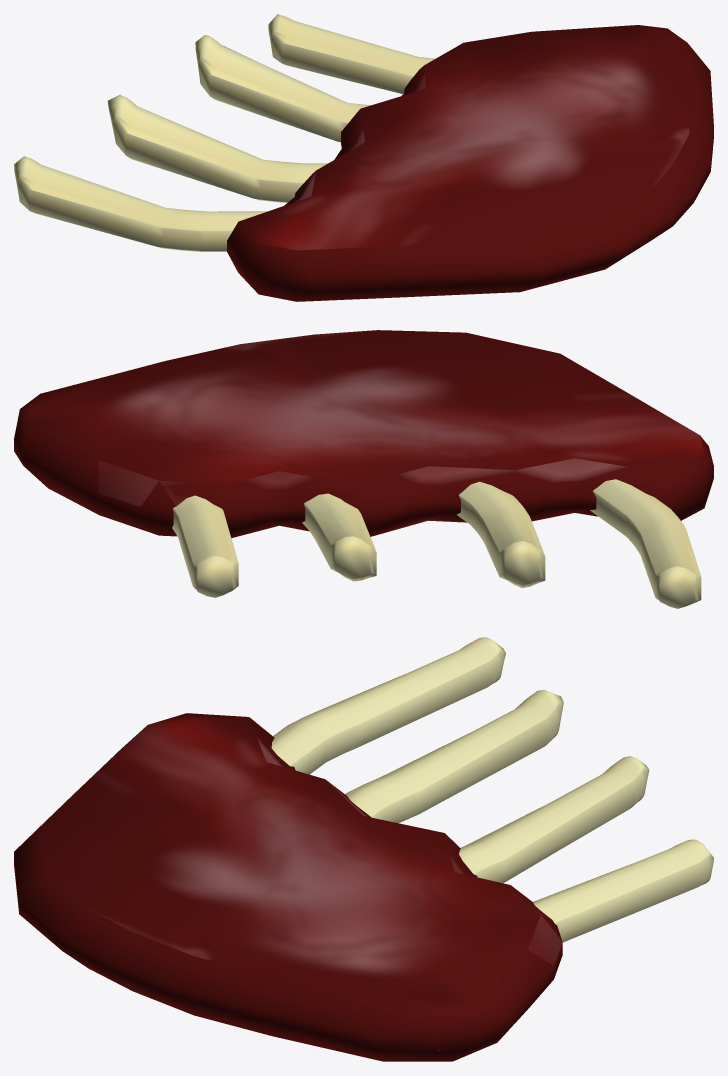
The model's file is MeatSix.fbx.
3 views of the same model, one above another, from view 1: azimuth 30°, elevation 25°; view 2: azimuth 150°, elevation 25°; view 3: azimuth 270°, elevation 25° (orthographic). The views are drawn at different scales.
Parts seen in each view (by area): view 1: MeatSix; view 2: MeatSix; view 3: MeatSix.
Boxes of the visible parts, x1,y1,x2,y2 form: MeatSix: (14, 14, 713, 301); MeatSix: (14, 330, 713, 608); MeatSix: (14, 637, 713, 1061).
Size of the model in its own units: 91.69 by 10.91 by 74.17.
